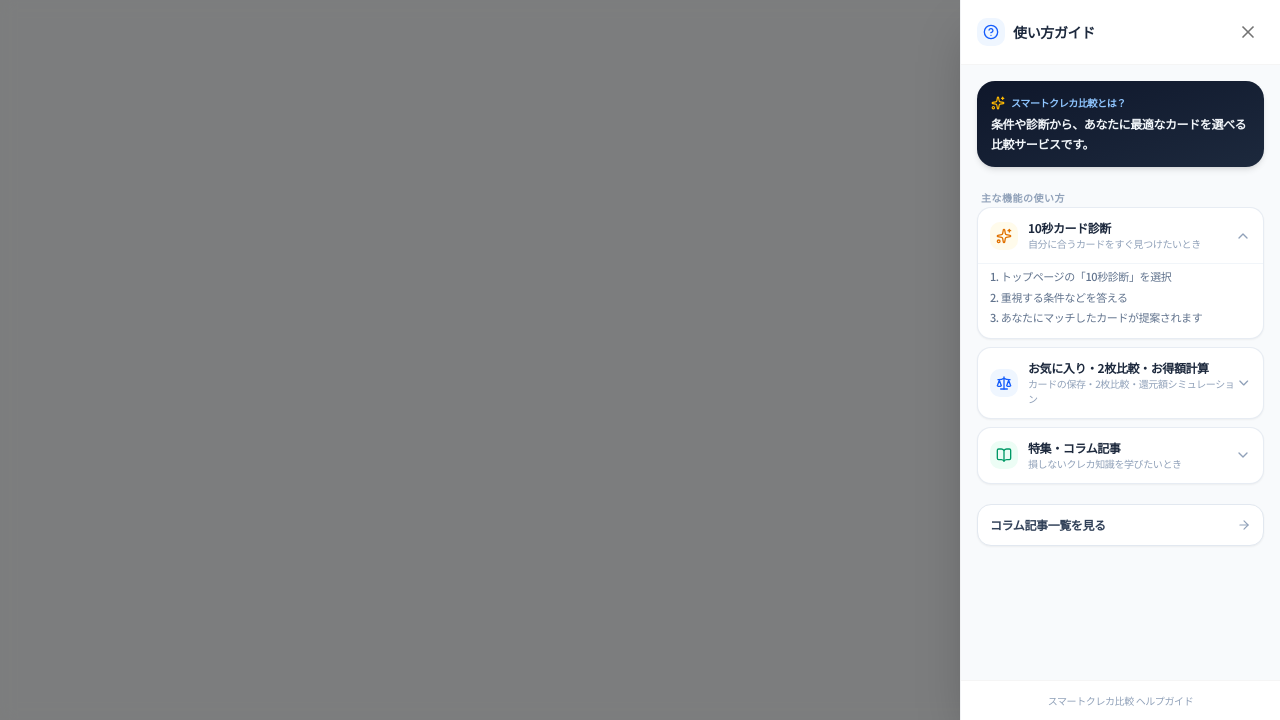
Test: HelpDrawer Component Tests › UT-06: 『お気に入り・2枚比較・お得額計算』をクリックした際、開閉状態が正しく切り替わること
This screenshot has width=1280, height=720.
Check: the text "年間実質お得額シミュレーター" is not shown
Click the button "お気に入り・2枚比較・お得額計算 カードの保存・2枚比較・還元額シミュレーション" at {"x": 1120, "y": 382}, box [978, 348, 1263, 418]
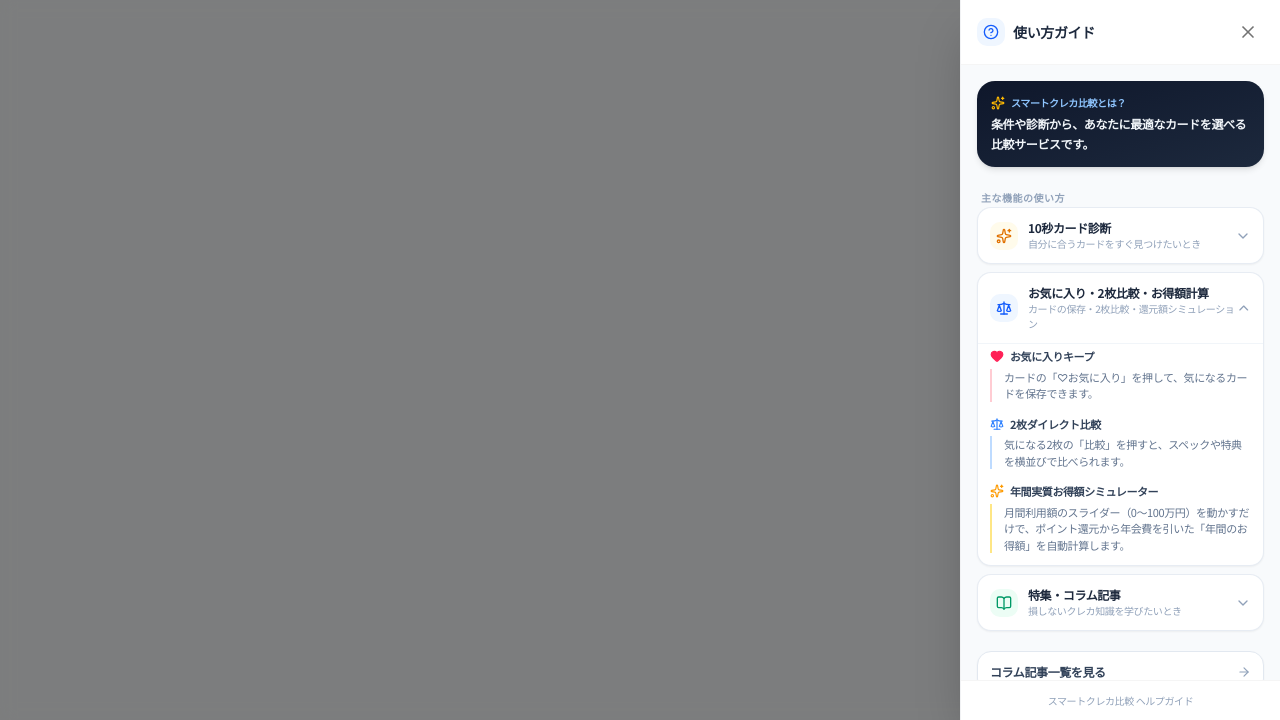
Check: the text "年間実質お得額シミュレーター" is shown, box [990, 483, 1158, 499]
Check: the list item "あなたにマッチしたカードが提案されます" is gone
